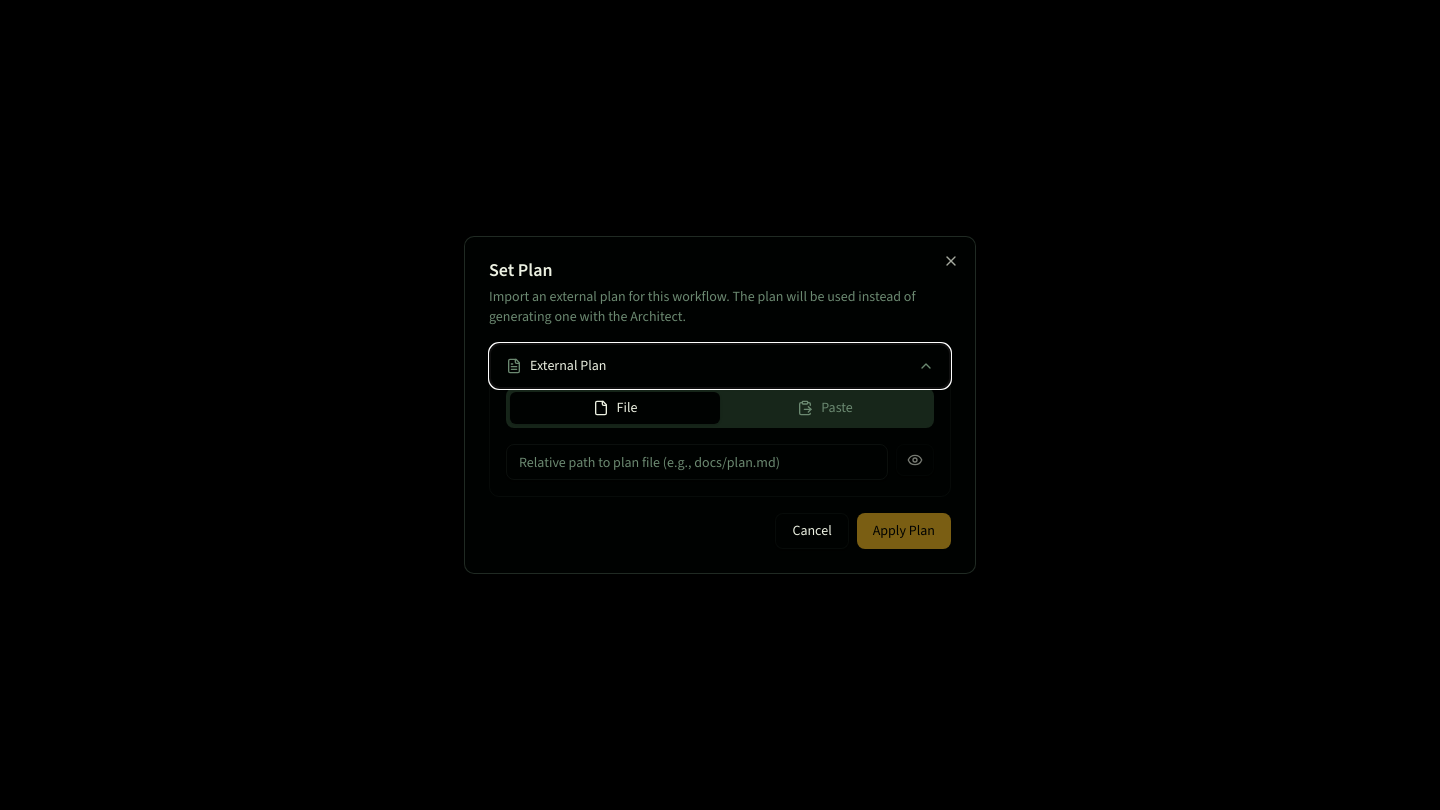
it: SetPlanModal › submission › shows inline error on API error
In the field with placeholder "Relative path to plan file (e.g., docs/plan.md)": (697, 462) [506, 444, 888, 480], type "docs/plan.md"
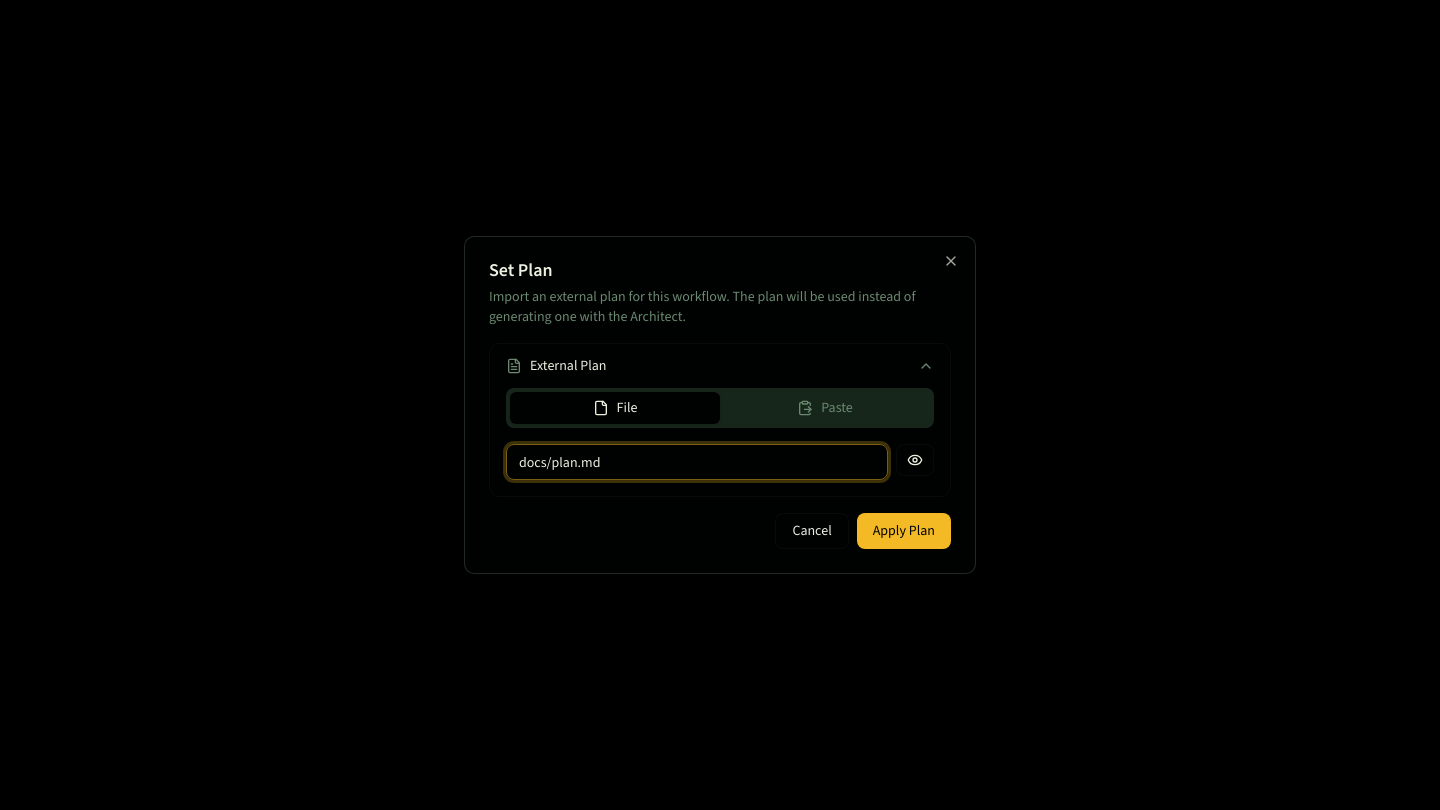
Click the button "Apply Plan": (904, 531) [857, 513, 951, 549]
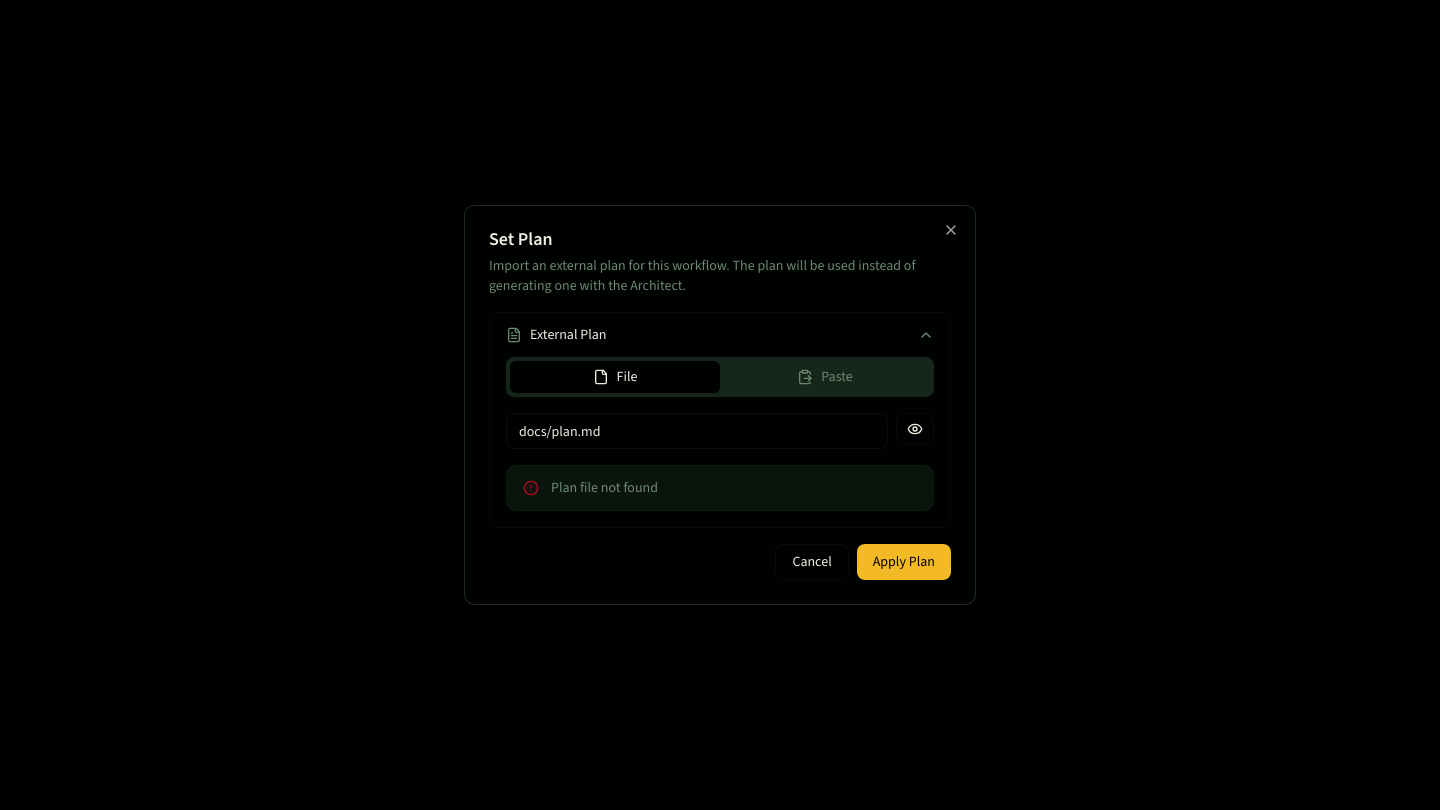
Expected: the text "Plan file not found" is shown, [551, 478, 658, 497]
